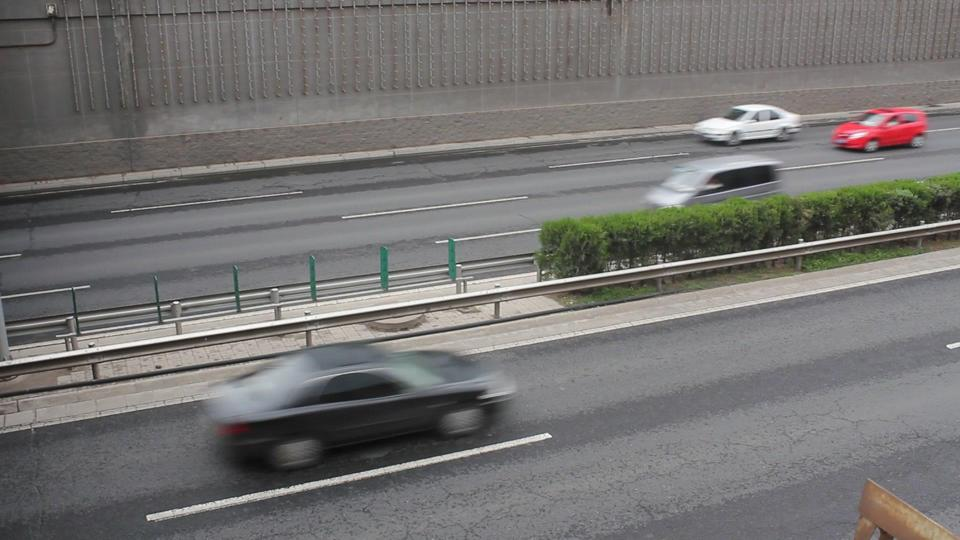car: (204, 343, 521, 472), (642, 153, 788, 209), (692, 104, 804, 146), (830, 107, 929, 152)
